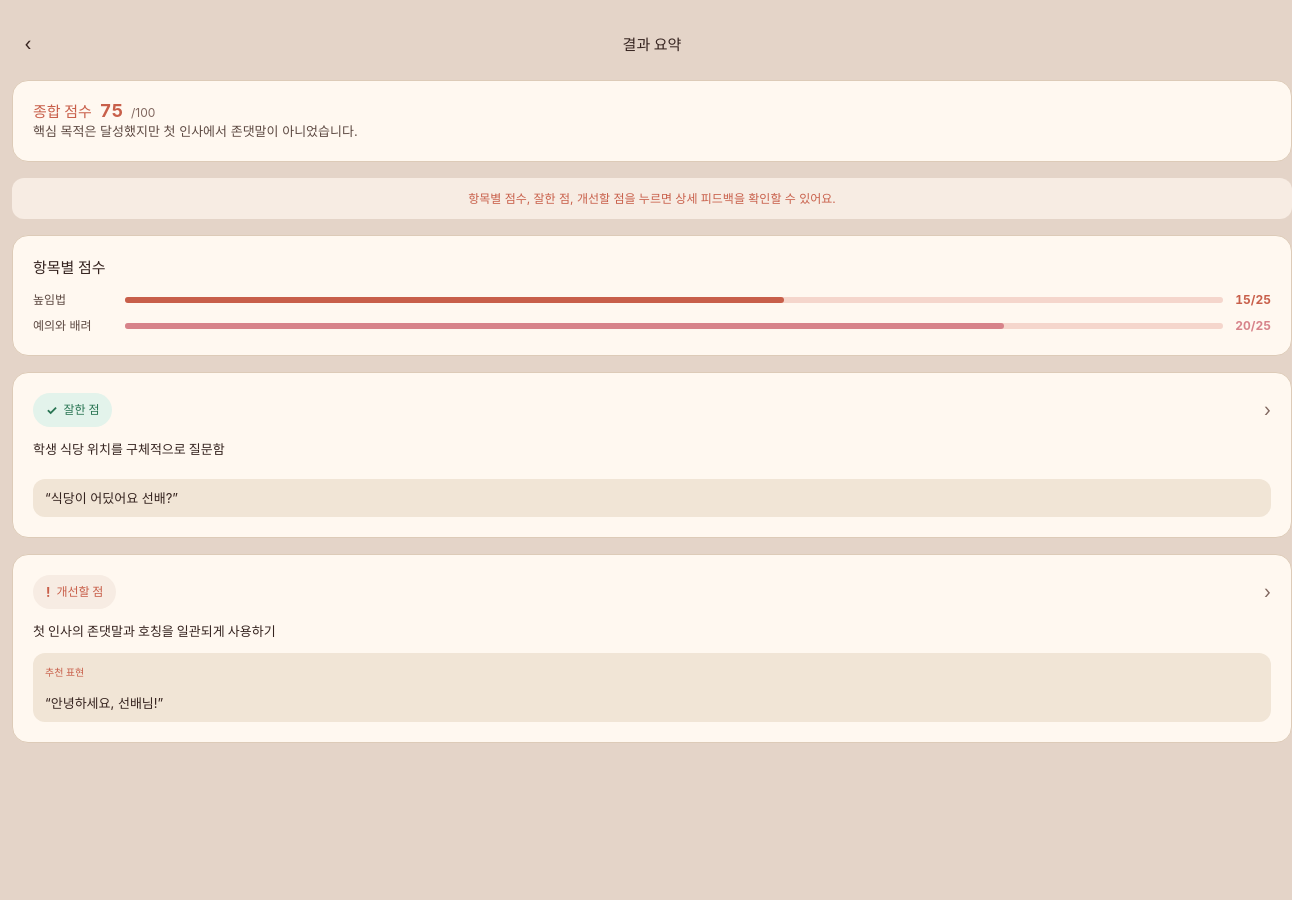
Test: 항목별 점수를 누르면 R02 상세 평가로 간다
Step 1. Click the link "항목별 점수 높임법 15/25 예의와 배려 20/25" → (652, 296), box [12,235,1291,356]
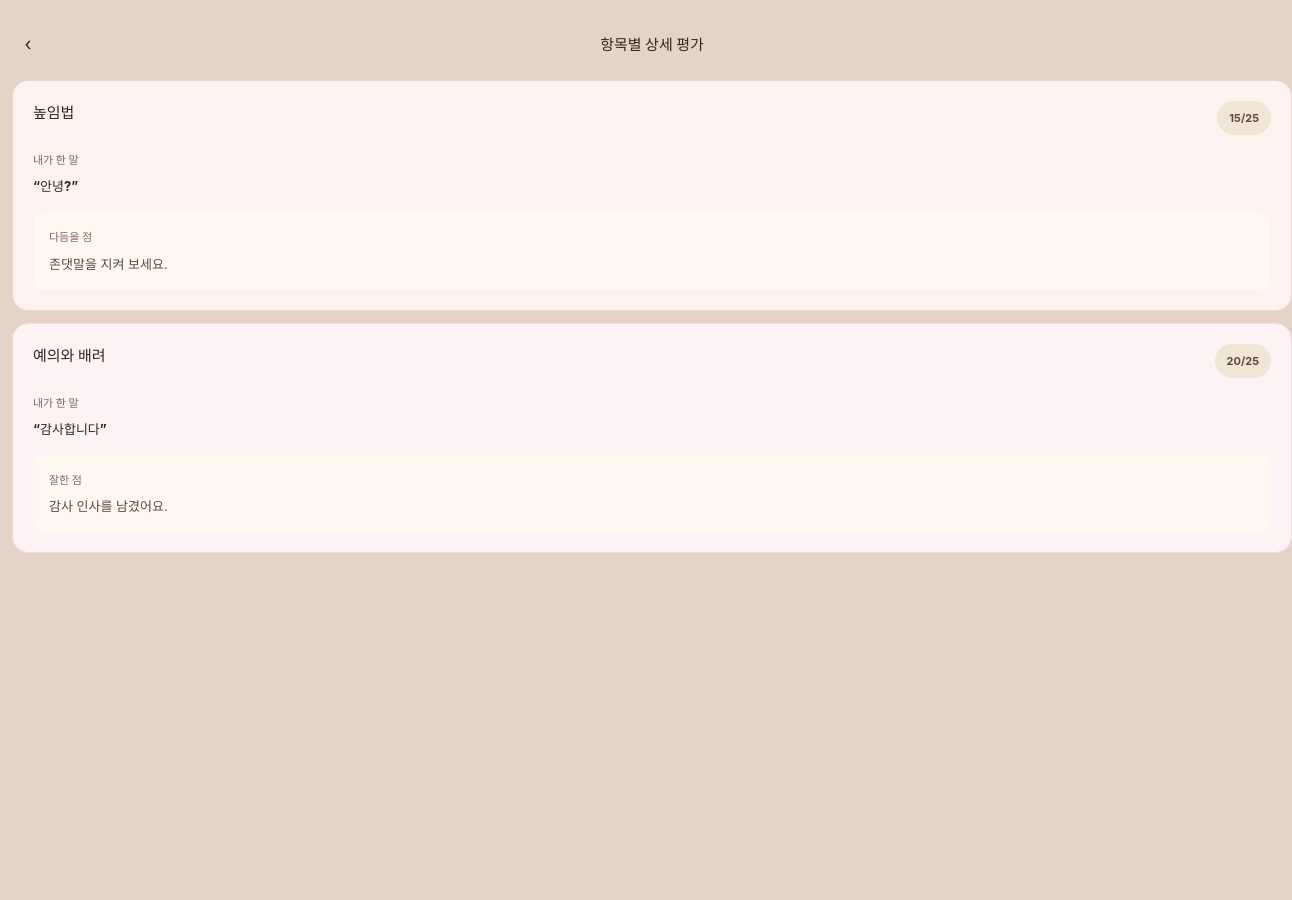
Expected: the text "15/25" is shown, [1217,101,1271,135]
Expected: the heading "항목별 상세 평가" is shown, [600,32,704,56]
Expected: the text "존댓말을 지켜 보세요." is shown, [49,256,168,272]
